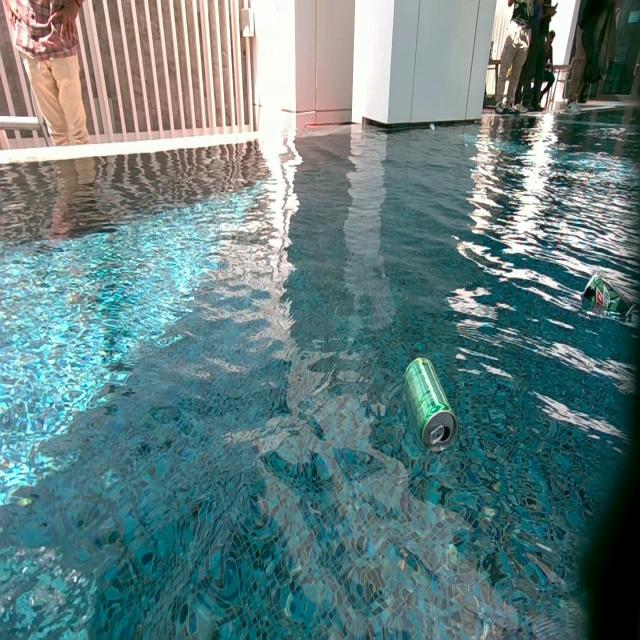Cans: (402, 354, 460, 452), (583, 273, 615, 307), (428, 123, 436, 135)
